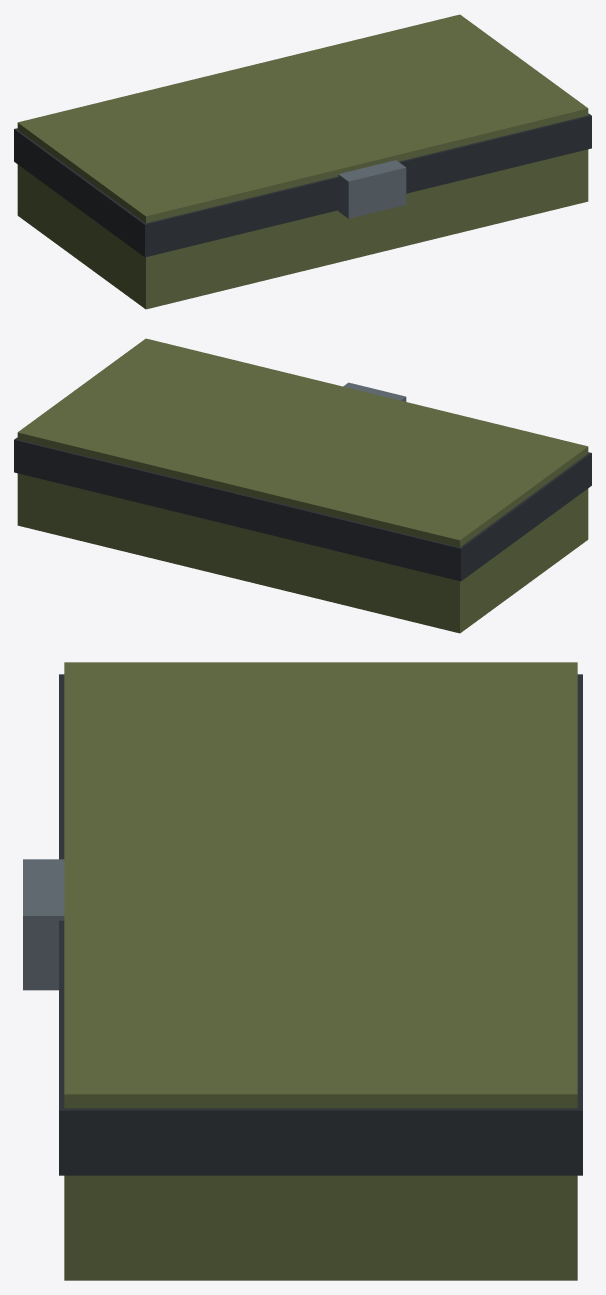
File: inf_runner_lower_torso.fbx
3 views of the same model, one above another, from view 1: azimuth 30°, elevation 25°; view 2: azimuth 150°, elevation 25°; view 3: azimuth 270°, elevation 25° (orthographic). The views are drawn at different scales.
Visible parts, largest first — view 1: inf_runner_lower_torso; view 2: inf_runner_lower_torso; view 3: inf_runner_lower_torso.
Boxes of the visible parts, bbox=[...] form: inf_runner_lower_torso: bbox=[14, 14, 591, 309]; inf_runner_lower_torso: bbox=[14, 338, 591, 633]; inf_runner_lower_torso: bbox=[23, 662, 582, 1280].
Size of the model in its own units: 201 by 40 by 109.
